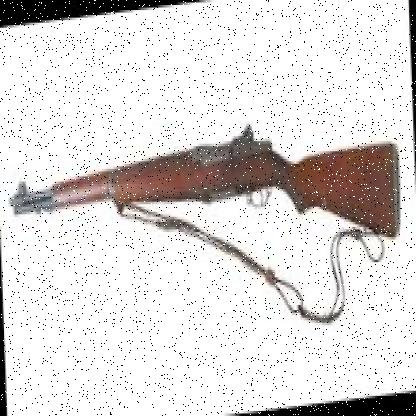rifle: (7, 100, 409, 292)
